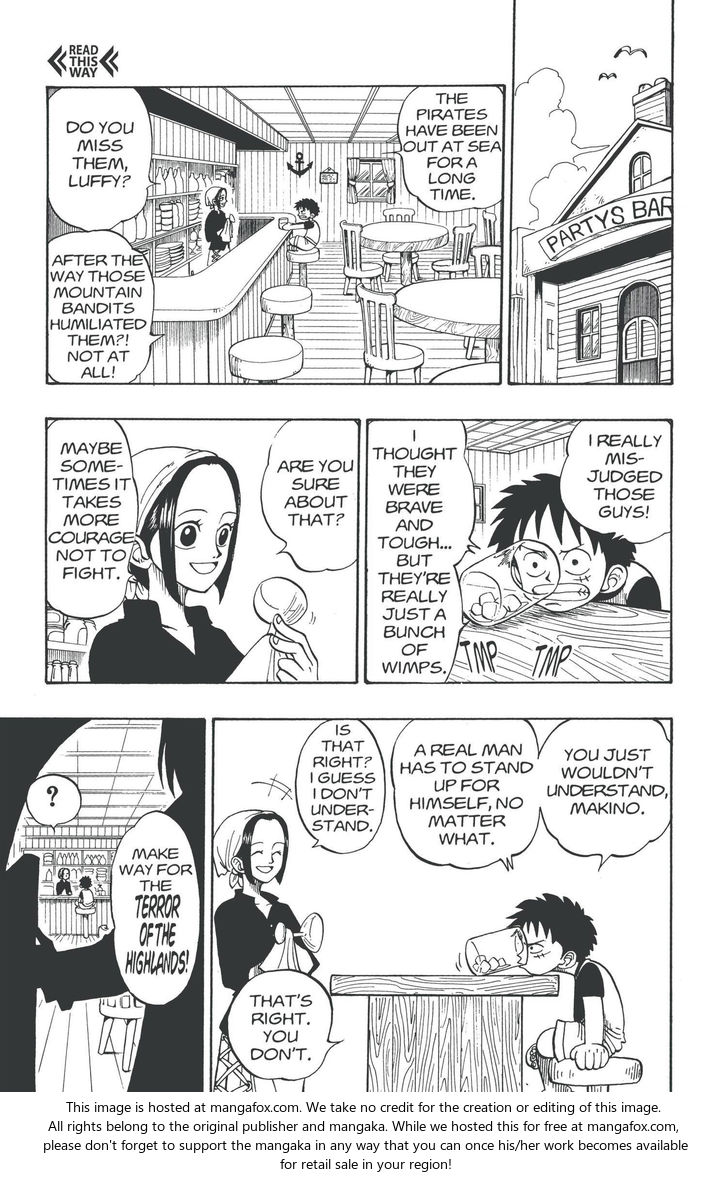bubble: (365, 419, 480, 683), (391, 718, 539, 871), (539, 718, 671, 870), (46, 418, 139, 618), (47, 230, 164, 383), (110, 811, 201, 1006), (47, 87, 160, 232), (384, 85, 504, 212), (262, 419, 360, 572), (559, 420, 672, 544), (226, 969, 344, 1081), (296, 718, 385, 854), (25, 774, 82, 833)
